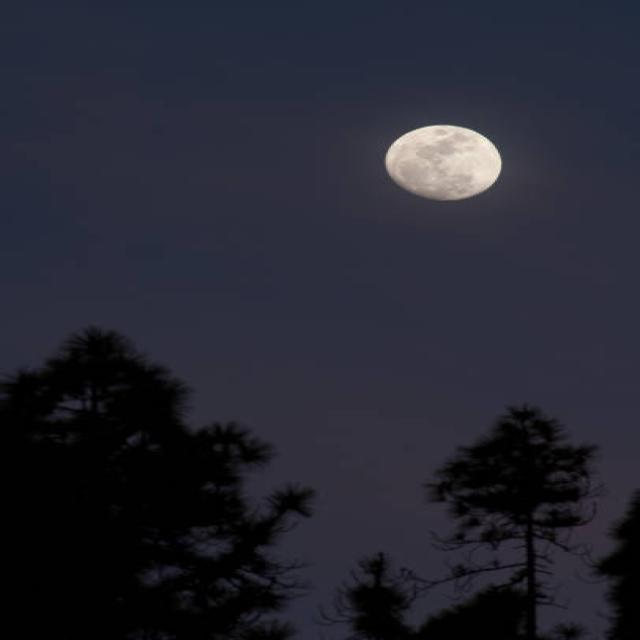moon: (383, 125, 498, 201)
